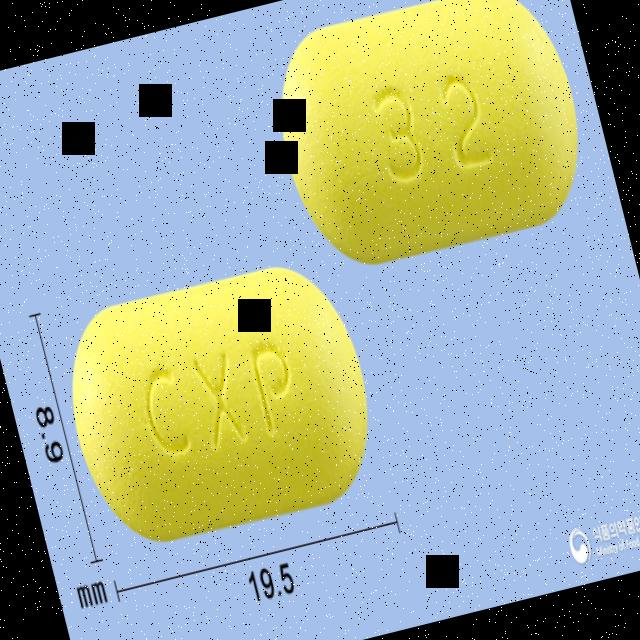Clatwo: (44, 238, 398, 570), (257, 0, 604, 280)
